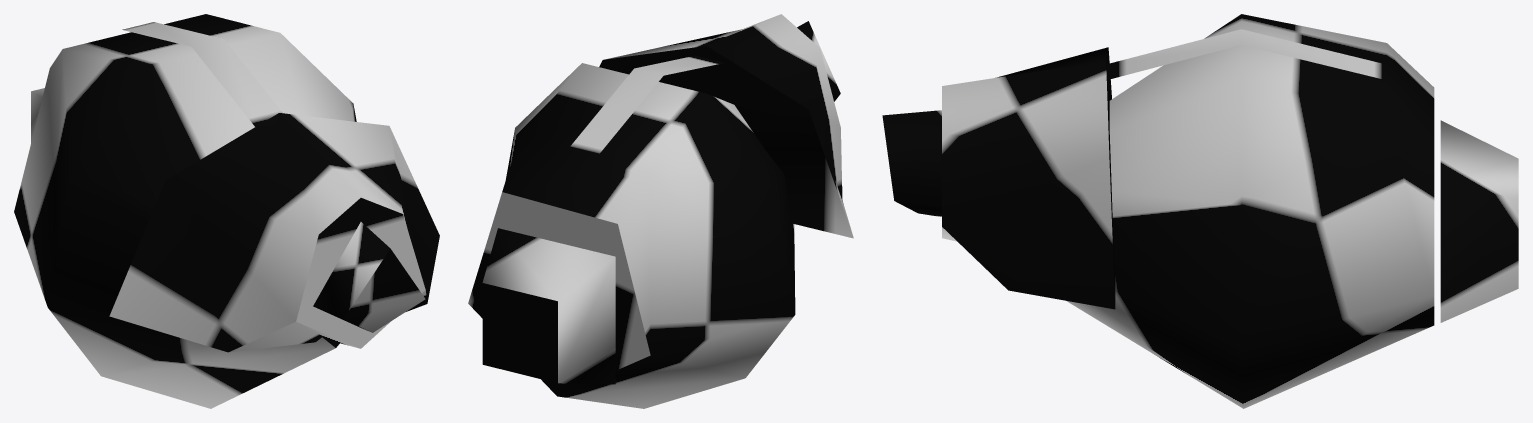
Rendered from drone_iris_2.obj.
3 views of the same model, side by side, from view 1: azimuth 30°, elevation 25°; view 2: azimuth 150°, elevation 25°; view 3: azimuth 270°, elevation 25° (orthographic). The views are drawn at different scales.
Parts seen in each view (by area): view 1: main; view 2: main; view 3: main.
Boxes of the visible parts, left/top/right/bottom form: main: left=14, top=14, right=439, bottom=408; main: left=468, top=14, right=853, bottom=408; main: left=882, top=14, right=1518, bottom=408.
Size of the model in its own units: 11.48 by 12.21 by 19.04.
Materials: 1 (1 with a texture image).
